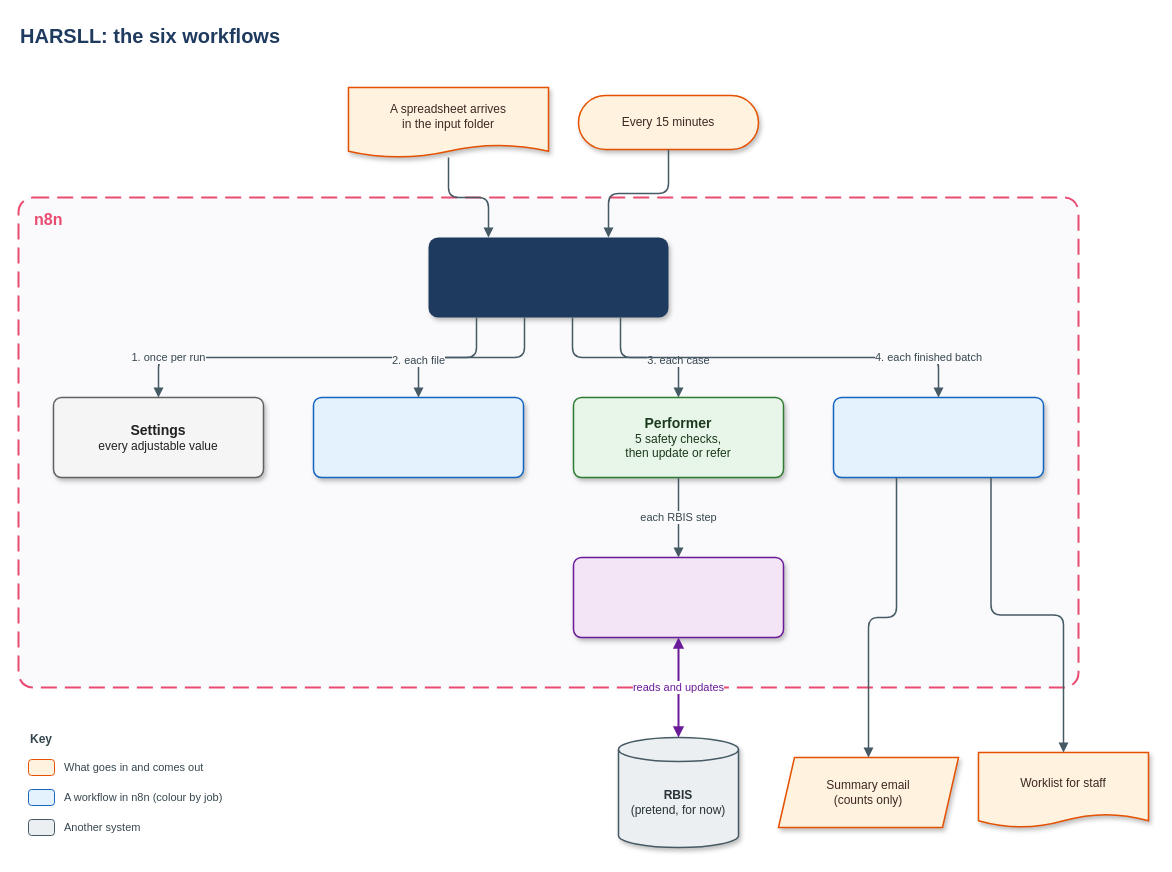
Some shapes in this 1172 by 872 pixel diagram are drawn without their labels. Here are the shapes that lost their labels. From the top down, the centre of each, then its label:
At pixel 549 278: "Dispatcher runs the whole job, one run at a time".
At pixel 419 438: "Dispatcher: take in a file spreadsheet → cases".
At pixel 939 438: "Dispatcher: report a batch summary and worklist".
At pixel 679 598: "Performer: RBIS adapter the only route to RBIS".
